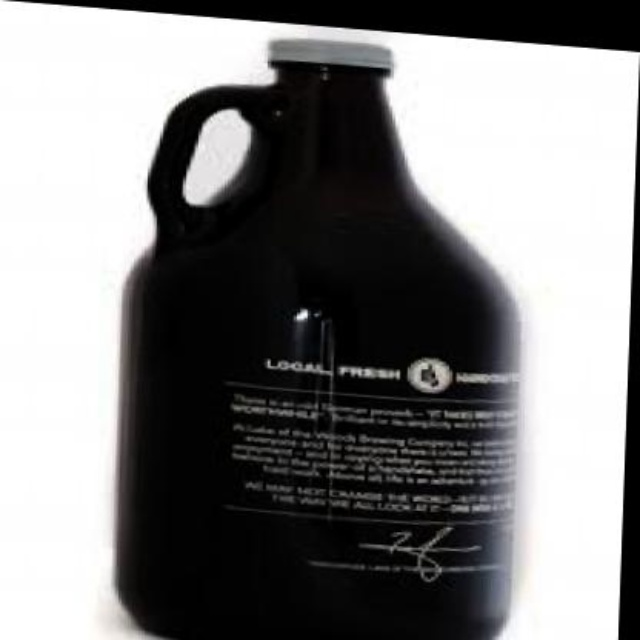trash: (117, 40, 517, 638), (183, 109, 252, 205)
